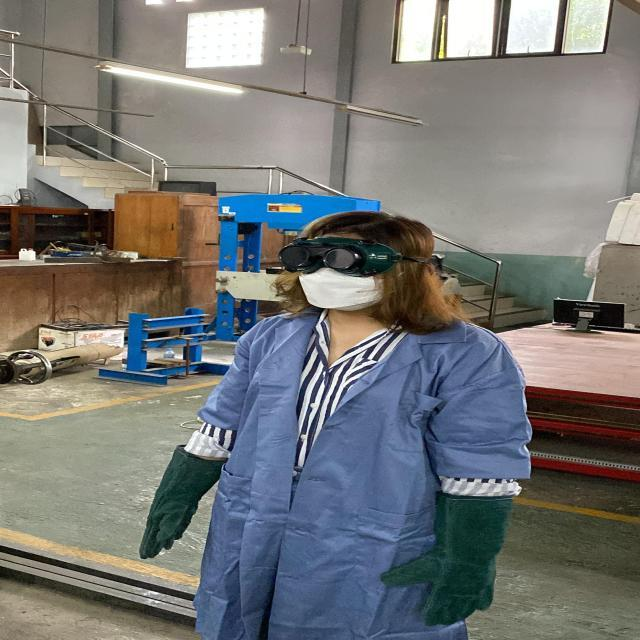glasses: (268, 234, 442, 278)
